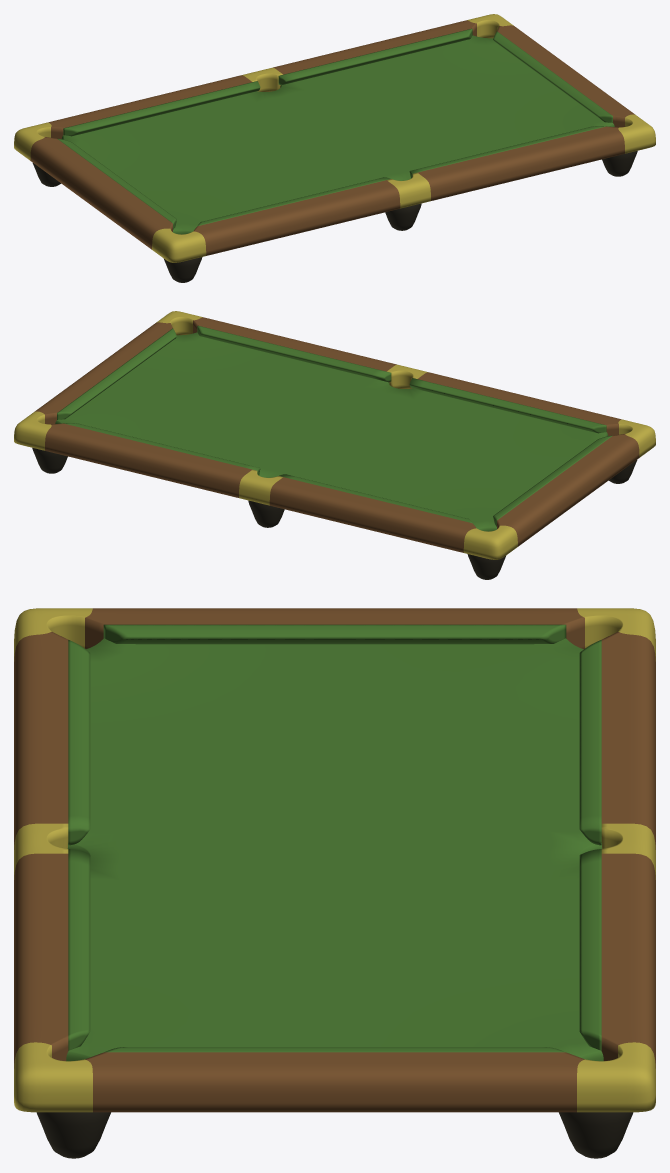
File: Pool-Table.fbx
3 renders of one model, top to bottom at view 1: azimuth 30°, elevation 25°; view 2: azimuth 150°, elevation 25°; view 3: azimuth 270°, elevation 25°, orthographic. The views are drawn at different scales.
Parts seen in each view (by area): view 1: Surface, Border, Bumper, Corner Edges, Side Edges, Pocket.003, Pocket.004, Pocket.001; view 2: Surface, Border, Bumper, Corner Edges, Side Edges, Pocket, Pocket.005, Pocket.002; view 3: Surface, Border, Bumper, Corner Edges, Side Edges, Pocket.002, Pocket.001.
Boxes of the visible parts, bbox=[...] form: Surface: bbox=[61, 35, 614, 234]; Border: bbox=[30, 20, 634, 255]; Bumper: bbox=[57, 28, 612, 229]; Corner Edges: bbox=[14, 14, 655, 262]; Side Edges: bbox=[242, 67, 430, 208]; Pocket.003: bbox=[385, 203, 421, 230]; Pocket.004: bbox=[164, 257, 202, 282]; Pocket.001: bbox=[602, 151, 637, 176]; Surface: bbox=[55, 332, 608, 531]; Border: bbox=[35, 317, 639, 552]; Bumper: bbox=[57, 325, 612, 526]; Corner Edges: bbox=[14, 311, 655, 559]; Side Edges: bbox=[239, 364, 427, 505]; Pocket: bbox=[248, 500, 284, 527]; Pocket.005: bbox=[467, 554, 505, 579]; Pocket.002: bbox=[32, 448, 67, 473]; Surface: bbox=[66, 638, 603, 1061]; Border: bbox=[14, 608, 655, 1112]; Bumper: bbox=[68, 624, 601, 1052]; Corner Edges: bbox=[14, 608, 655, 1112]; Side Edges: bbox=[14, 823, 655, 879]; Pocket.002: bbox=[559, 1112, 633, 1158]; Pocket.001: bbox=[36, 1112, 110, 1158].
Size of the model in its own units: 262 by 26.66 by 150.
